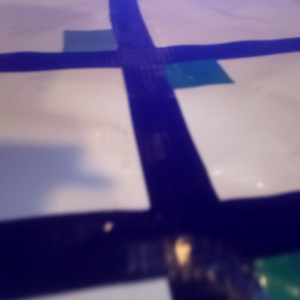bottom_right: (174, 203, 300, 300), (124, 47, 234, 89)
top_left: (64, 30, 150, 66)
